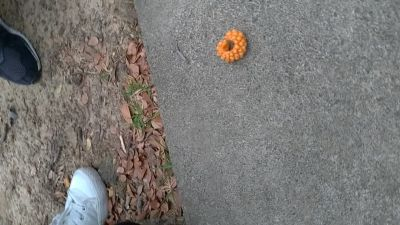eggs: (217, 28, 247, 64)
